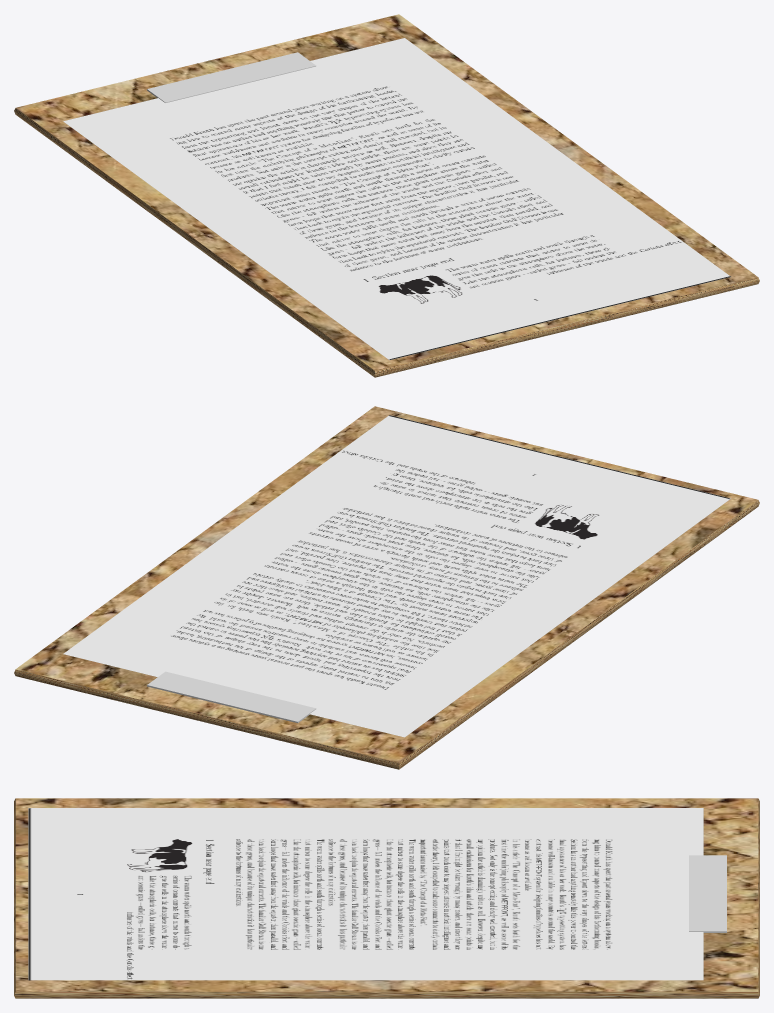
The model's file is paperpadvariant2.fbx.
The picture shows the model from 3 angles, top to bottom: view 1: azimuth 30°, elevation 25°; view 2: azimuth 150°, elevation 25°; view 3: azimuth 270°, elevation 25°; orthographic projection. The views are drawn at different scales.
Visible parts, largest first — view 1: Cube.001, Cube, Cube.002; view 2: Cube.001, Cube, Cube.002; view 3: Cube.001, Cube, Cube.002.
Part boxes in pixels (box(x1,y1,x2,y2)): Cube.001: box(63, 38, 730, 360); Cube: box(14, 14, 759, 377); Cube.002: box(147, 52, 315, 102); Cube.001: box(63, 415, 730, 737); Cube: box(14, 406, 759, 769); Cube.002: box(147, 671, 316, 723); Cube.001: box(28, 808, 703, 980); Cube: box(14, 798, 759, 998); Cube.002: box(689, 855, 726, 932).
Size of the model in its own units: 520 by 10.86 by 844.
